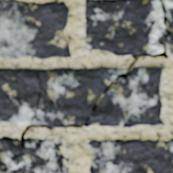brick: (0, 0, 70, 58), (87, 139, 172, 172)
broken_brick: (0, 66, 126, 125), (84, 66, 164, 128), (84, 0, 164, 56), (3, 137, 69, 172), (0, 135, 19, 166), (166, 0, 172, 55)
crack: (0, 0, 170, 172)
